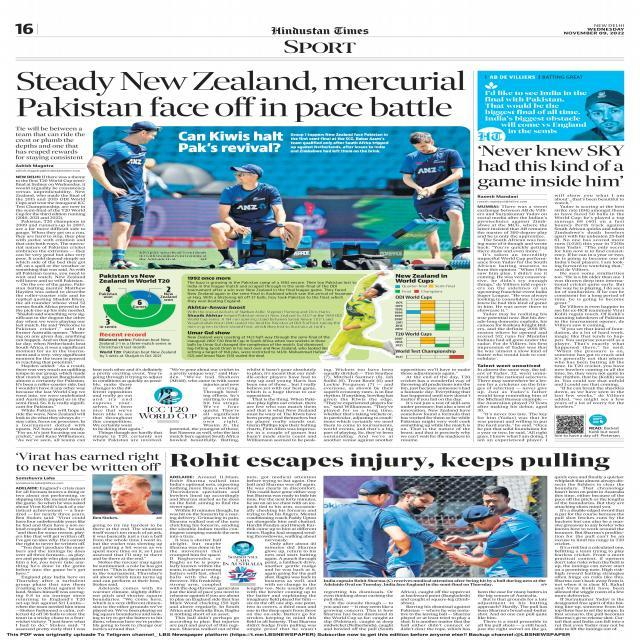Article: (9, 64, 473, 444), (166, 448, 631, 634), (475, 68, 630, 444), (10, 448, 164, 632)
Body: (14, 174, 86, 443), (476, 204, 550, 442), (552, 192, 626, 410), (553, 474, 627, 632), (14, 485, 86, 631), (92, 524, 164, 632), (244, 366, 318, 444), (91, 368, 165, 444), (168, 367, 240, 443), (399, 366, 471, 442), (324, 367, 394, 443), (185, 275, 357, 303), (168, 474, 241, 538), (245, 476, 318, 538), (186, 330, 334, 360), (187, 305, 343, 329), (246, 587, 318, 631), (399, 589, 472, 632), (322, 590, 396, 632), (476, 590, 550, 632), (170, 587, 240, 631), (168, 538, 224, 586), (264, 538, 318, 586)
Date: (564, 26, 626, 36)
Heading: (16, 69, 469, 123), (172, 451, 614, 472), (475, 144, 627, 191), (12, 450, 162, 472)
Highlights: (176, 130, 388, 156), (482, 89, 590, 135), (12, 125, 86, 162), (98, 332, 178, 358), (98, 273, 173, 283), (396, 274, 450, 283)
Image: (323, 476, 548, 578), (207, 162, 375, 270), (90, 124, 174, 270), (394, 128, 470, 269), (394, 284, 472, 360), (96, 284, 180, 329), (358, 272, 392, 361), (92, 474, 162, 514), (592, 88, 624, 142), (555, 414, 586, 434), (230, 541, 255, 555)
Name: (282, 39, 357, 55), (268, 25, 371, 36)
